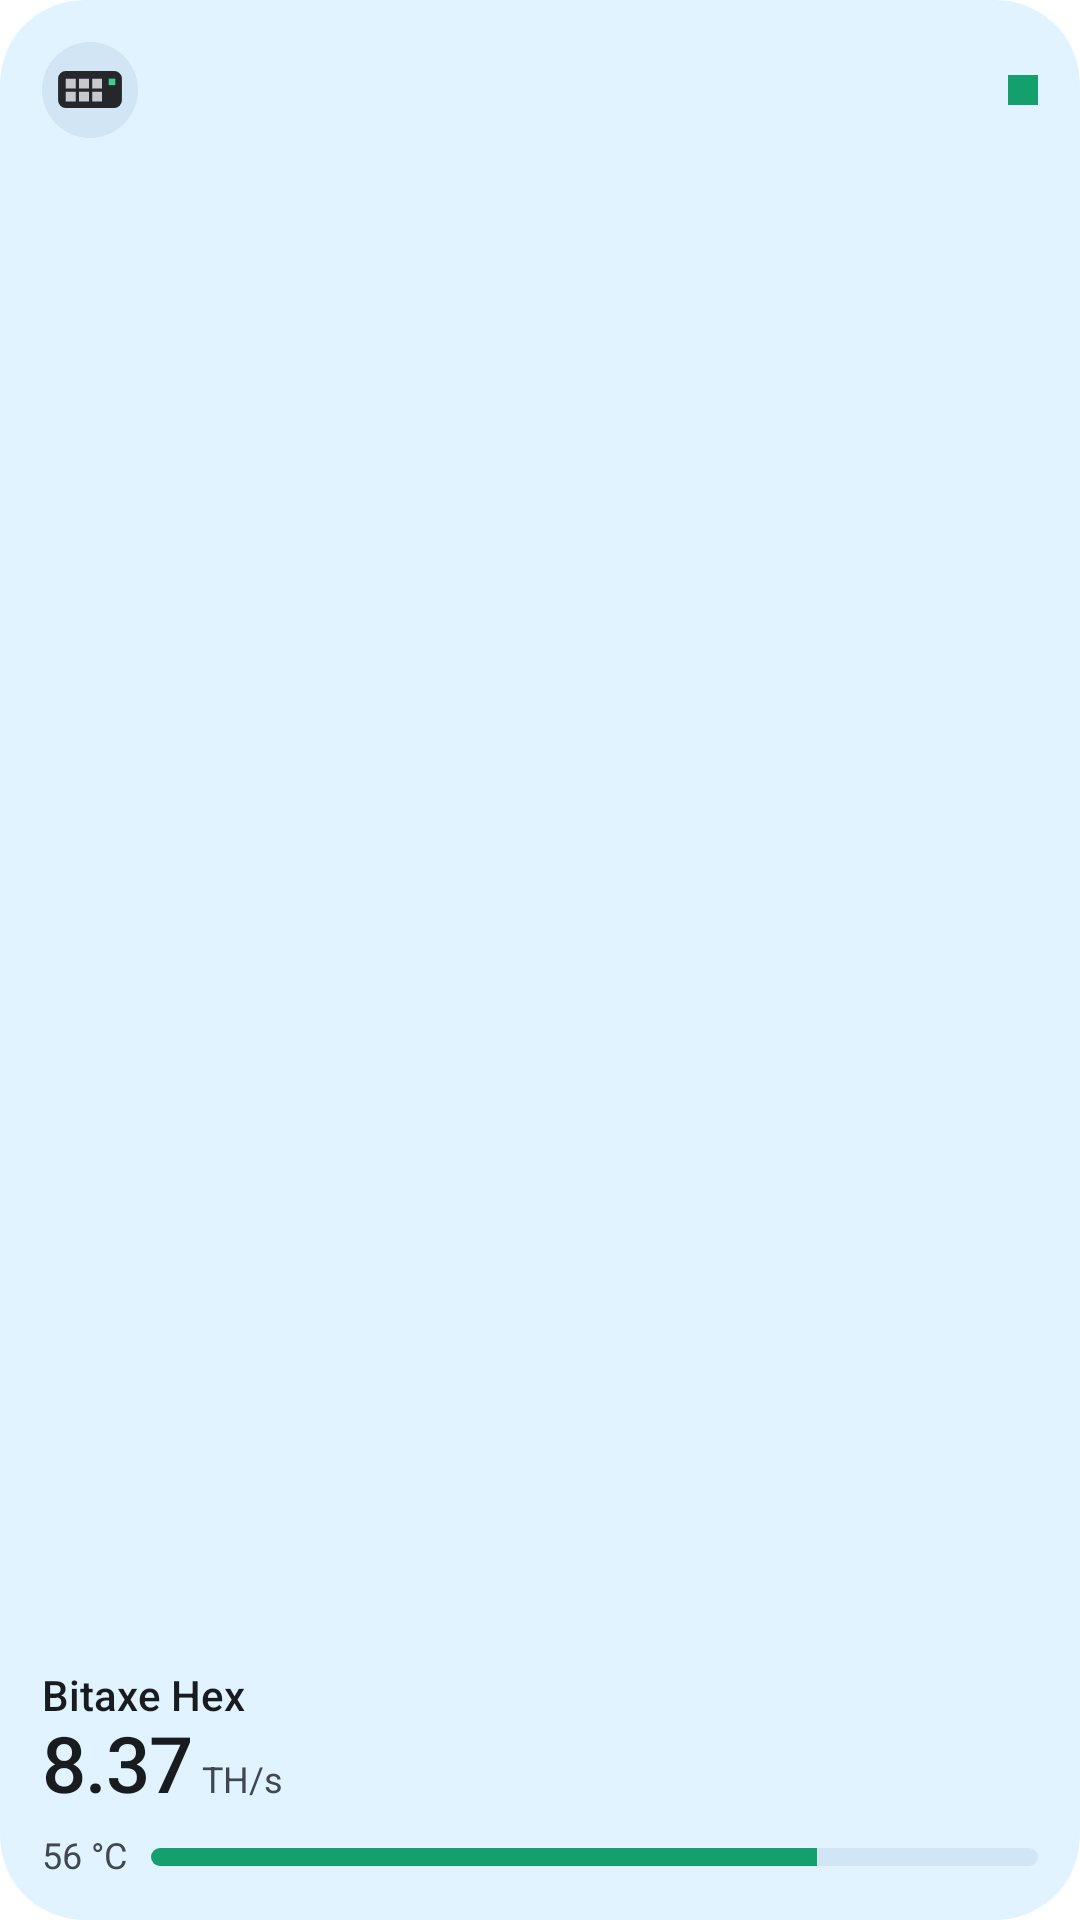

Icon bounding boxes for this 1080px x 1920px phone screenshot, format [x1=x1, y1=y1, x2=x2, y2=y2]:
board: [x1=58, y1=71, x2=122, y2=108]
